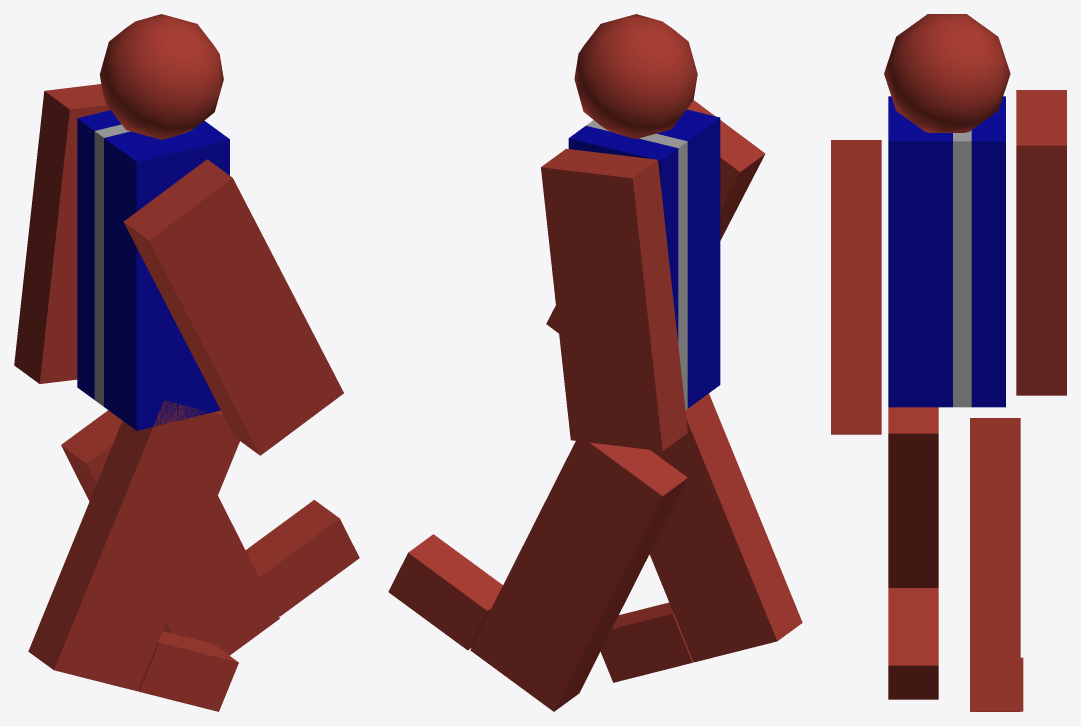
Rendered from player_000056.obj.
The picture shows the model from 3 angles, left to right: view 1: azimuth 30°, elevation 25°; view 2: azimuth 150°, elevation 25°; view 3: azimuth 270°, elevation 25°; orthographic projection.
Parts seen in each view (by area): view 1: Cube.001, Cube.005, Cube, Cube.006, Cube.002, Icosphere, Cube.004, Cube.003; view 2: Cube.006, Cube.002, Cube.001, Cube, Icosphere, Cube.004, Cube.003, Cube.005; view 3: Cube, Cube.006, Cube.005, Cube.002, Icosphere, Cube.001, Cube.003, Cube.004.
Part boxes in pixels (x1,y1,x2,y2): Cube.001: (28,400,239,691); Cube.005: (123,159,343,455); Cube: (77,110,229,430); Cube.006: (14,84,110,383); Cube.002: (61,410,279,655); Icosphere: (99,14,223,139); Cube.004: (245,500,359,616); Cube.003: (138,631,238,711); Cube.006: (541,148,687,451); Cube.002: (470,441,687,711); Cube.001: (649,393,802,662); Cube: (568,109,720,409); Icosphere: (574,14,697,139); Cube.004: (388,534,502,650); Cube.003: (600,602,693,682); Cube.005: (546,100,765,333); Cube: (888,96,1005,407); Cube.006: (1016,90,1066,395); Cube.005: (831,140,881,434); Cube.002: (970,418,1020,711); Icosphere: (884,14,1010,132); Cube.001: (888,407,938,587); Cube.003: (888,588,938,699); Cube.004: (972,657,1023,711).
Bounding box in the file's own units: 1.54 × 2.88 × 0.9137.
